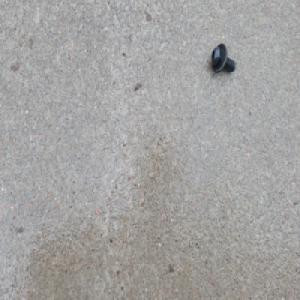BoltWasher: (209, 43, 235, 76)
